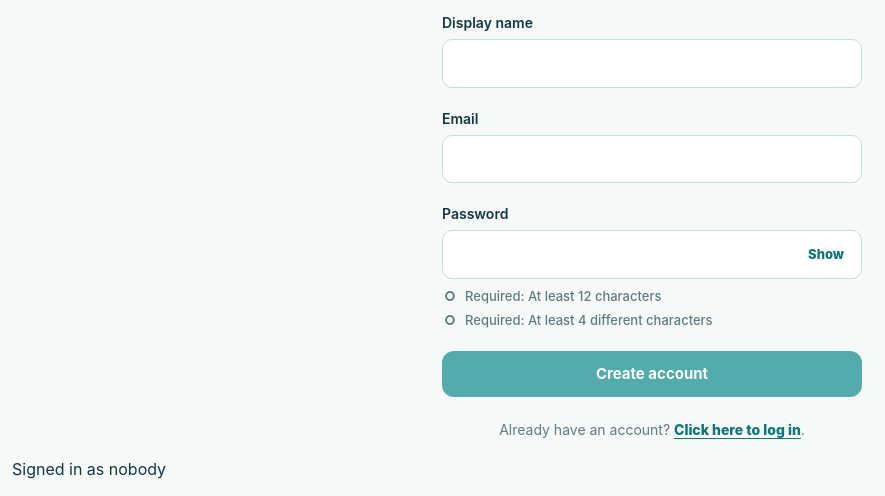
Test: Register — submission is disabled for invalid input › enables the submit button once every field is valid
Type "Sam Observer" into the field labelled "Display name" at coordinates (652, 63), box x1=442 y1=39 x2=862 y2=88
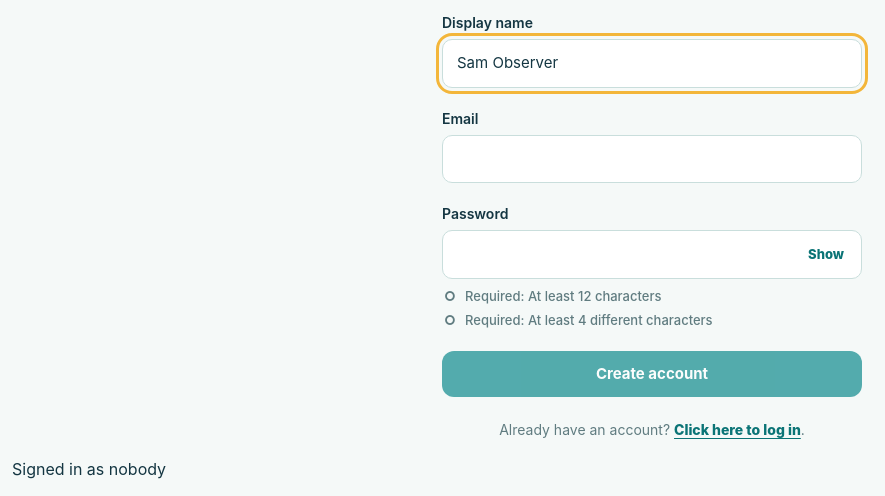
Type "observer@example.org" into the field labelled "Email" at coordinates (652, 159), box x1=442 y1=134 x2=862 y2=183
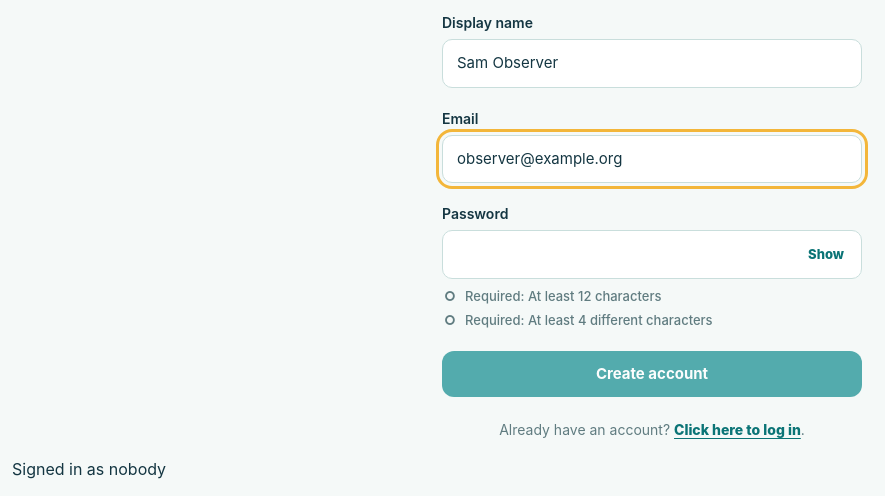
Type "correct-horse-battery" into the password field labelled "Password" at coordinates (652, 254), box x1=442 y1=230 x2=862 y2=278
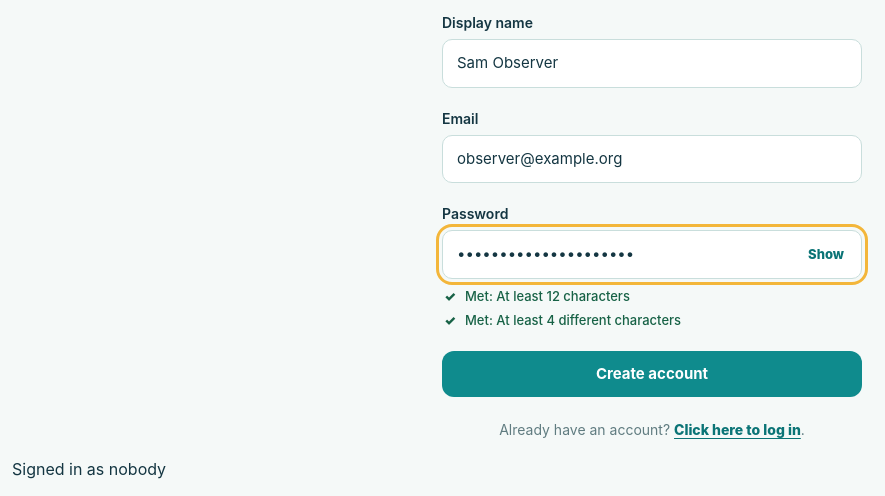
Expected: the button "Create account" is enabled, x1=442 y1=350 x2=862 y2=397
